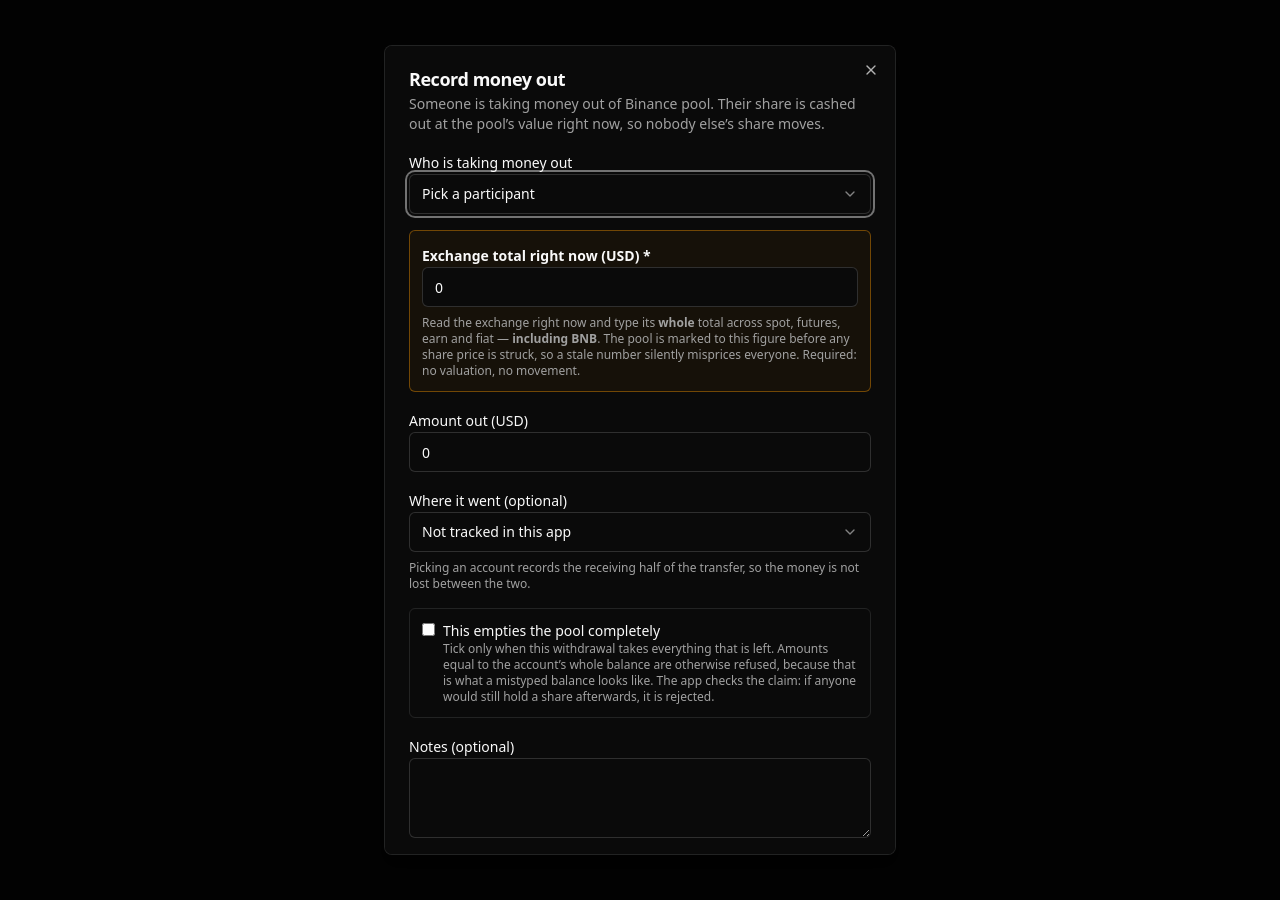
Test: RecordRedemptionDialog › offers only same-currency, non-pooled destination accounts
Click the dropdown with test id "redemption-destination-select". click: (497, 532)
box: [409, 512, 871, 552]
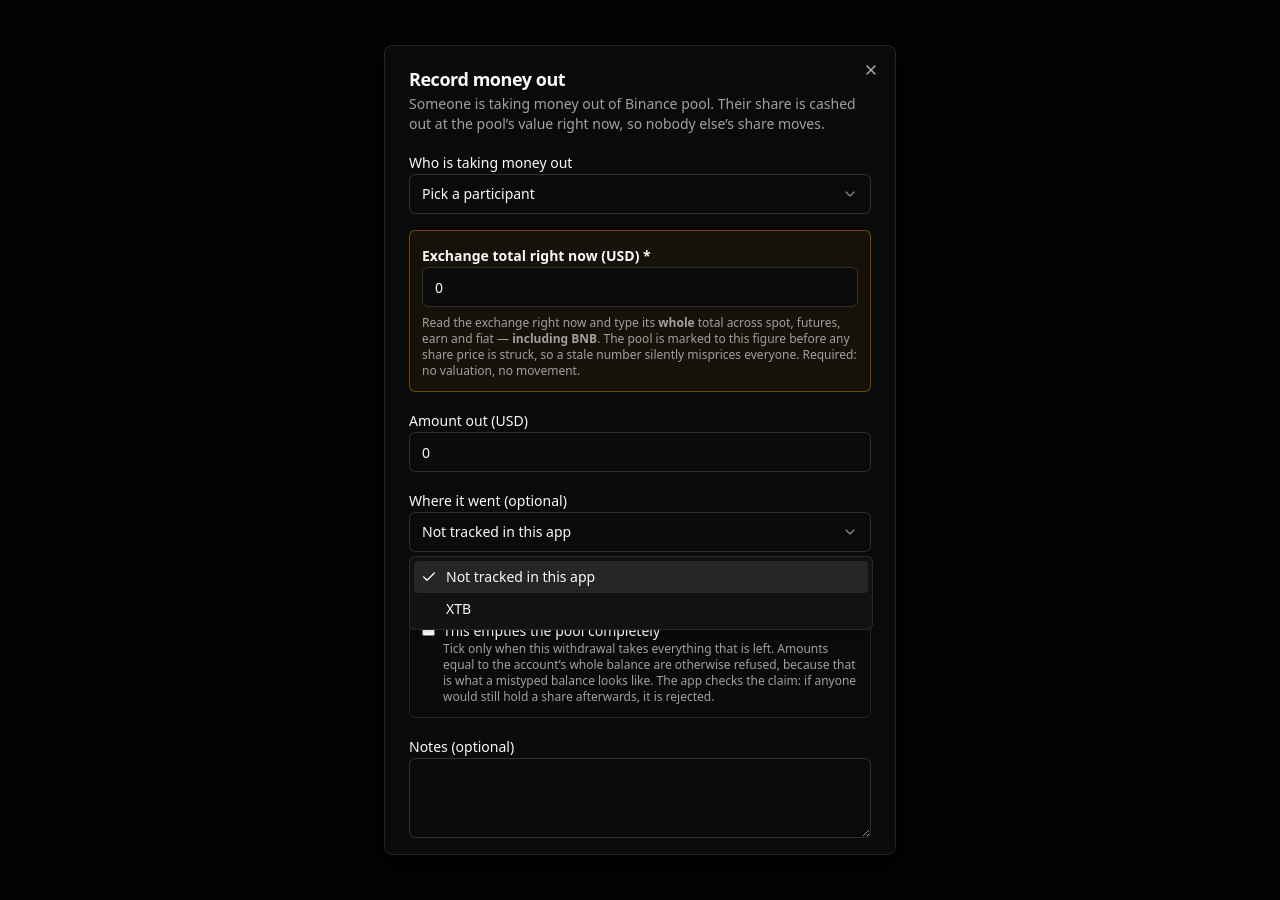
Now the option "XTB" is shown, box [446, 599, 471, 618]
Now the option "Not tracked in this app" is shown, box [414, 561, 868, 593]
